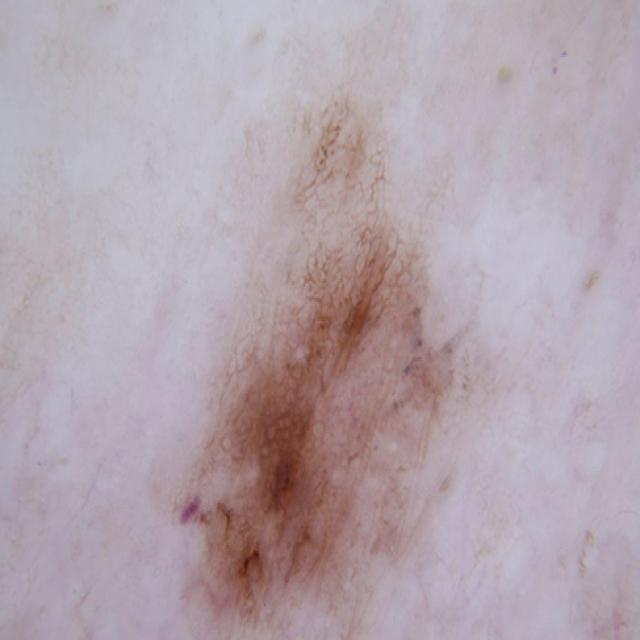Keratosis: (138, 87, 534, 640)
